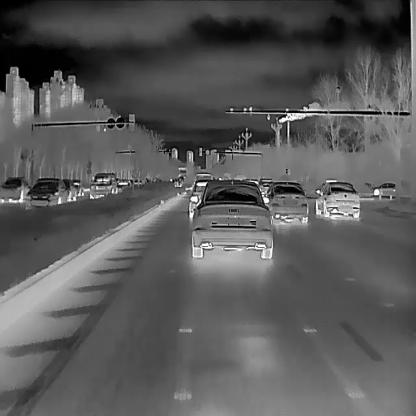car: (187, 176, 274, 258), (264, 180, 307, 224), (313, 179, 358, 219), (27, 178, 66, 206), (0, 176, 29, 202), (88, 172, 116, 198), (192, 172, 212, 198), (372, 180, 396, 196), (257, 179, 272, 197)
